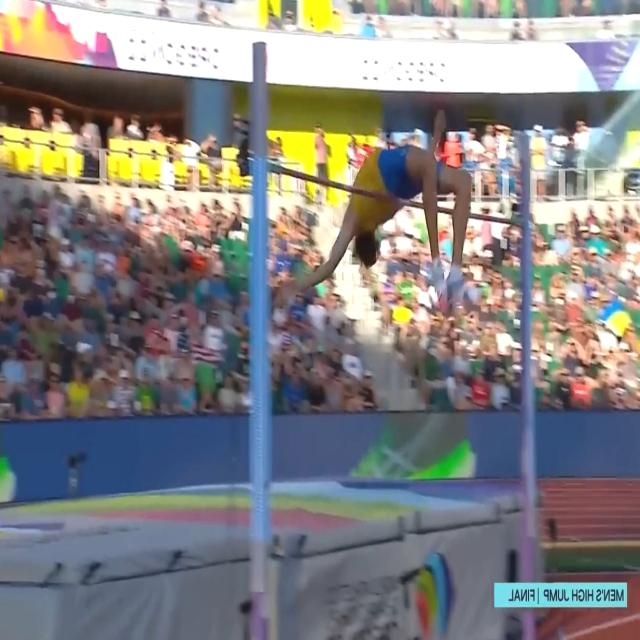jump: (279, 107, 482, 313)
